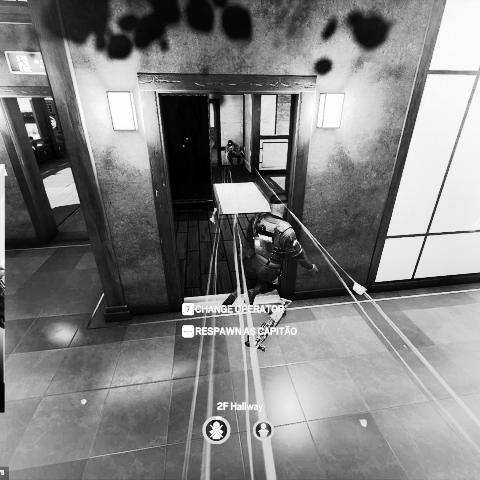Character: (219, 191, 322, 314), (224, 139, 243, 170)
Head: (269, 192, 289, 217), (227, 139, 234, 150)
